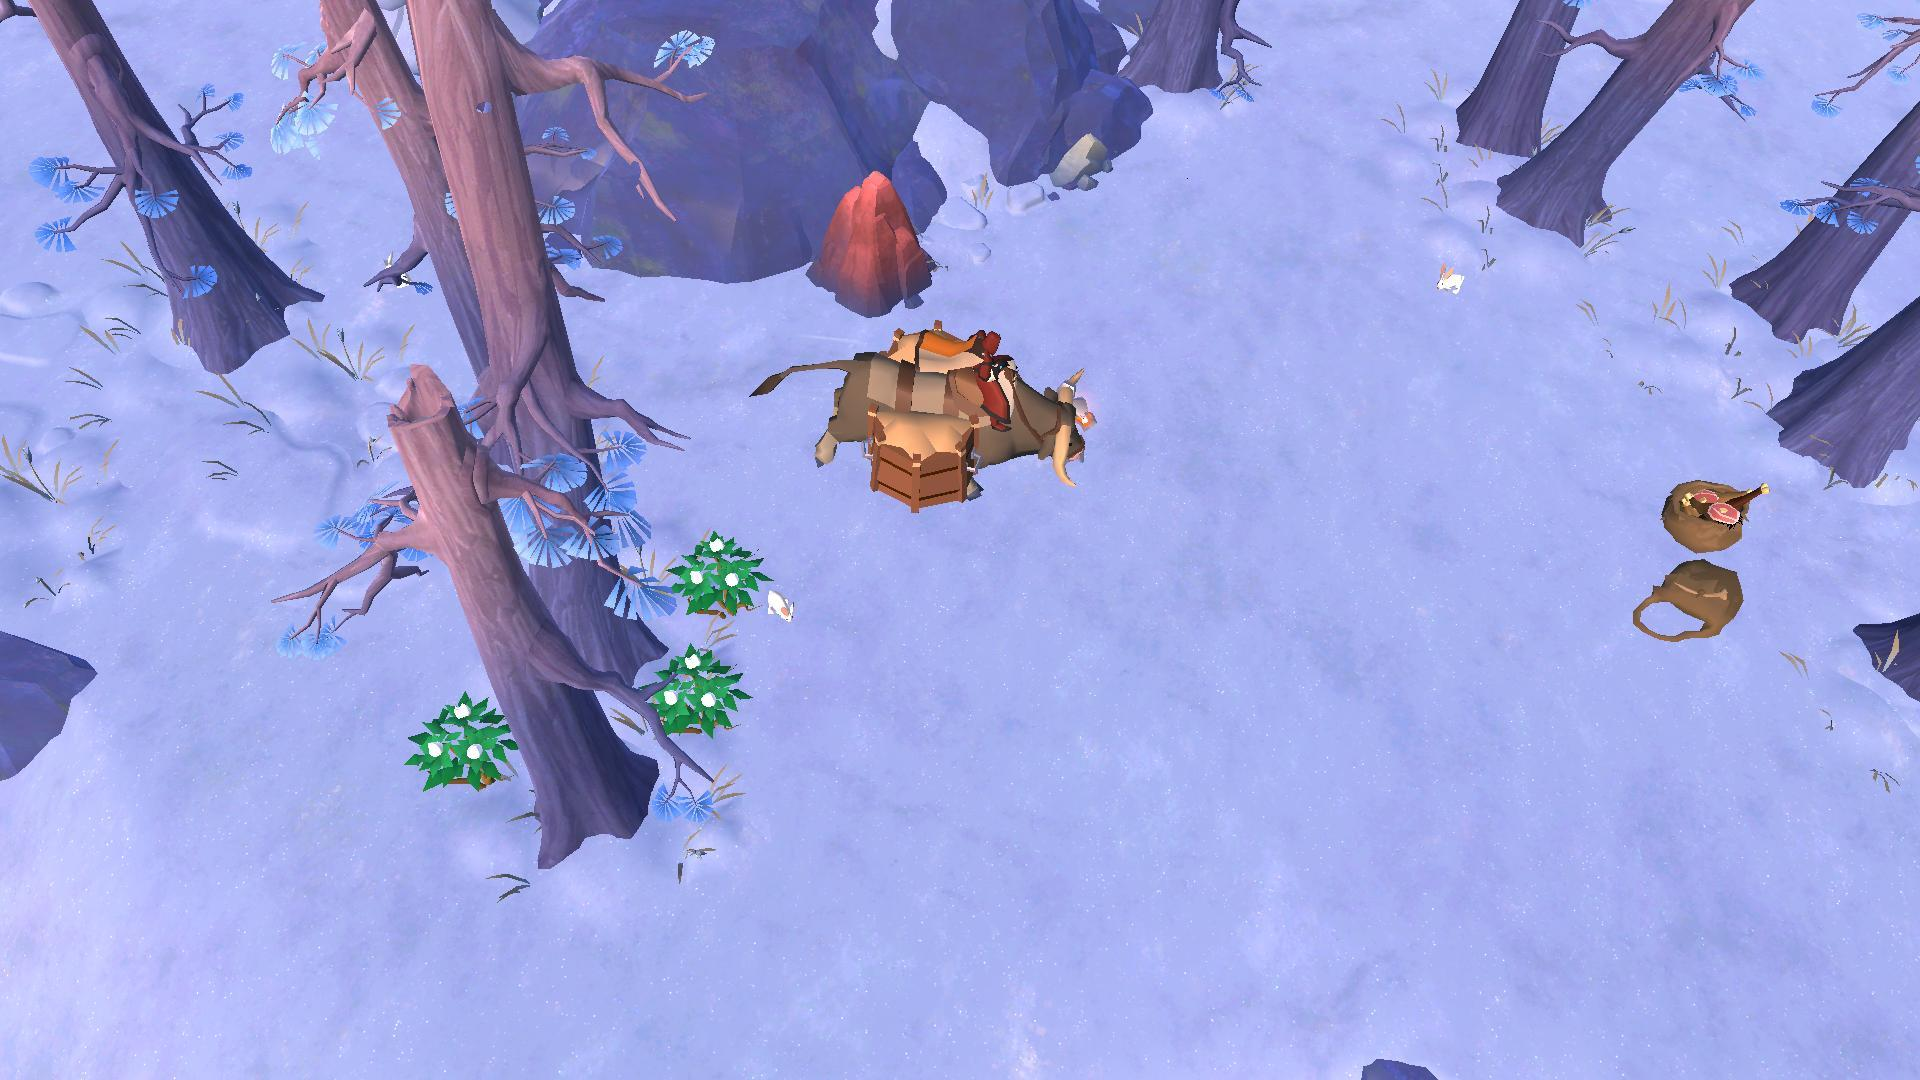fiber_t3: (411, 696, 522, 799), (653, 525, 773, 616), (630, 650, 742, 741)
rock_t5: (808, 167, 939, 316)
